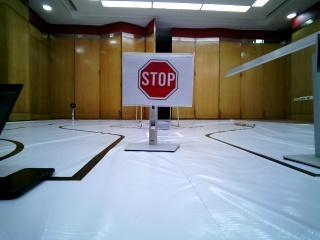stop: (132, 56, 186, 101)
